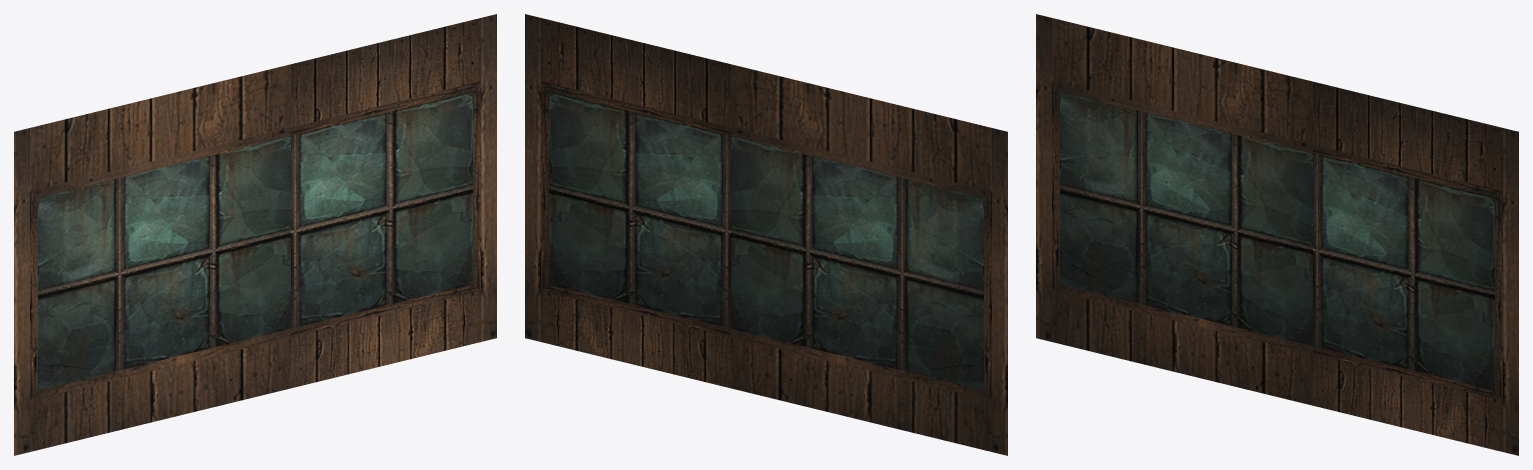
Rendered from wall_wood_2.fbx.
The picture shows the model from 3 angles, left to right: view 1: azimuth 30°, elevation 25°; view 2: azimuth 150°, elevation 25°; view 3: azimuth 330°, elevation 25°; orthographic projection.
Parts seen in each view (by area): view 1: wall_wood_2; view 2: wall_wood_2; view 3: wall_wood_2.
Boxes of the visible parts, left/top/right/bottom form: wall_wood_2: left=14, top=14, right=496, bottom=455; wall_wood_2: left=525, top=14, right=1007, bottom=455; wall_wood_2: left=1036, top=14, right=1518, bottom=455.
Bounding box in the file's own units: 4.77 × 3.06 × 1.22e-06.
